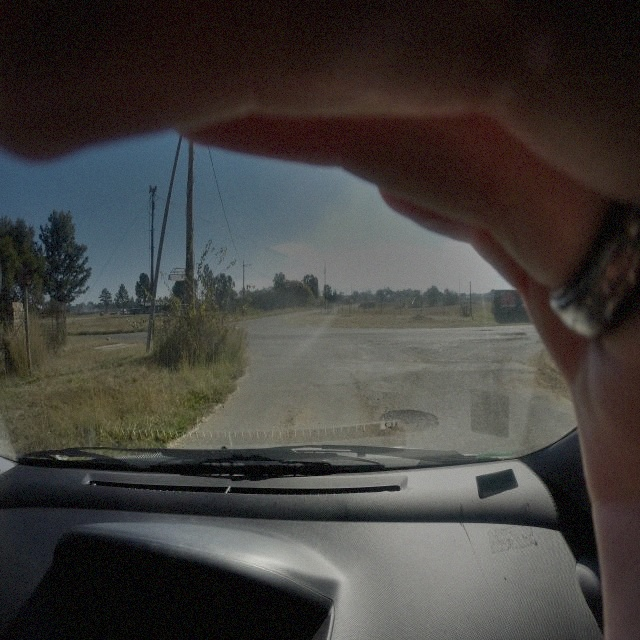pothole: (378, 409, 440, 433)
